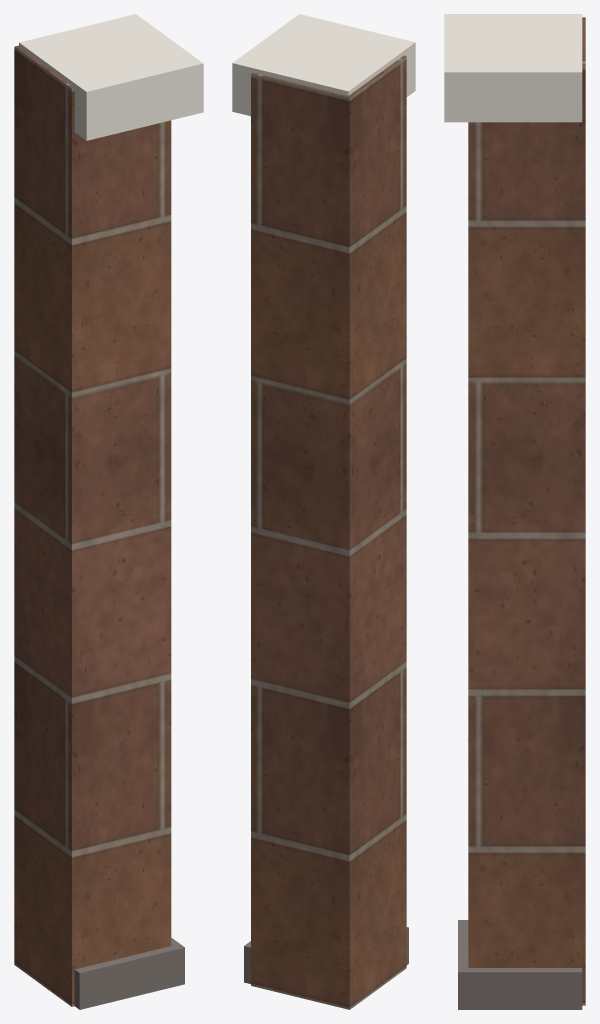
The model's file is corner_stone.glb.
3 renders of one model, left to right at view 1: azimuth 30°, elevation 25°; view 2: azimuth 150°, elevation 25°; view 3: azimuth 270°, elevation 25°, orthographic. The views are drawn at different scales.
Parts seen in each view (by area): view 1: corner_stone_stone, corner_stone_trim, corner_stone_dark; view 2: corner_stone_stone, corner_stone_trim; view 3: corner_stone_stone, corner_stone_trim, corner_stone_dark.
Boxes of the visible parts, x1,y1,x2,y2 form: corner_stone_stone: (14,45,171,1006); corner_stone_trim: (19,14,203,140); corner_stone_dark: (74,938,184,1009); corner_stone_stone: (251,55,406,1009); corner_stone_trim: (232,14,415,116); corner_stone_stone: (468,17,585,1005); corner_stone_trim: (444,14,582,122); corner_stone_dark: (458,920,582,1009).
Size of the model in its own units: 0.41 by 3.02 by 0.41.
Materials: 3 (1 with a texture image).
